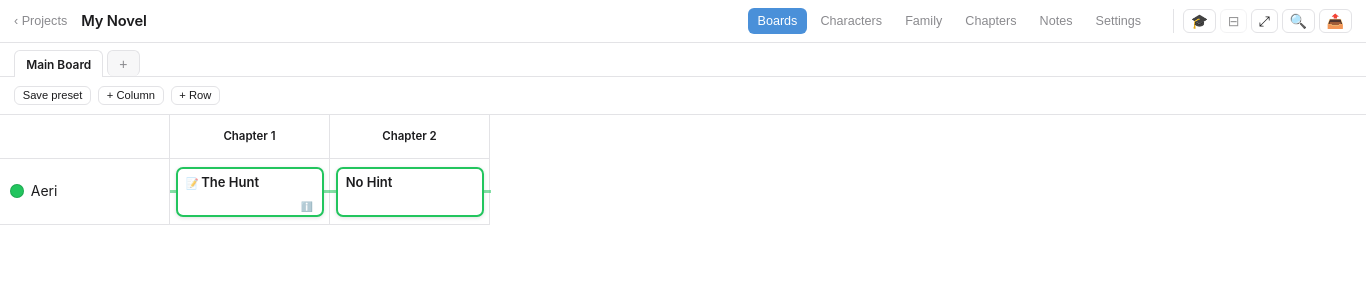
Test: hover tooltip on the board › shows the hover text after a short rest, line breaks kept, and hides it on leave
Check: the heading "My Novel" is shown, box left=81, top=12, right=147, bottom=30
Check: the text "The Hunt" is shown, box left=201, top=174, right=259, bottom=190
Hover over the text "The Hunt" at {"x": 250, "y": 192}, box left=176, top=166, right=324, bottom=216
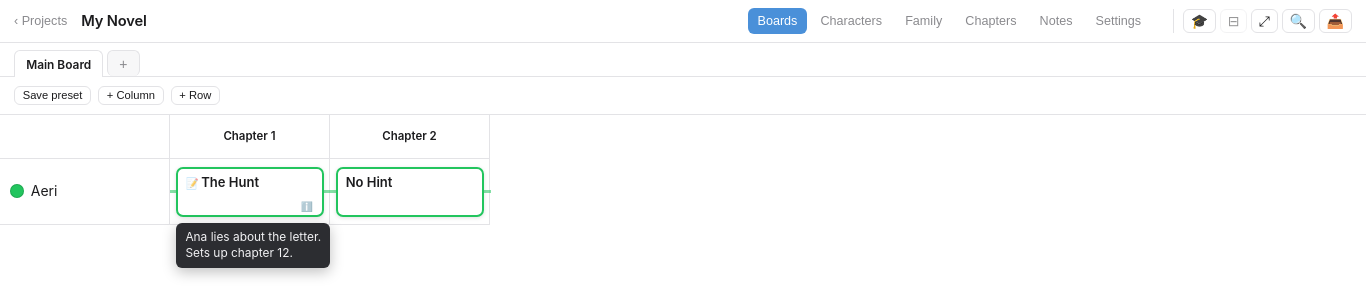
Move the pointer off the text "The Hunt", box left=176, top=166, right=324, bottom=216
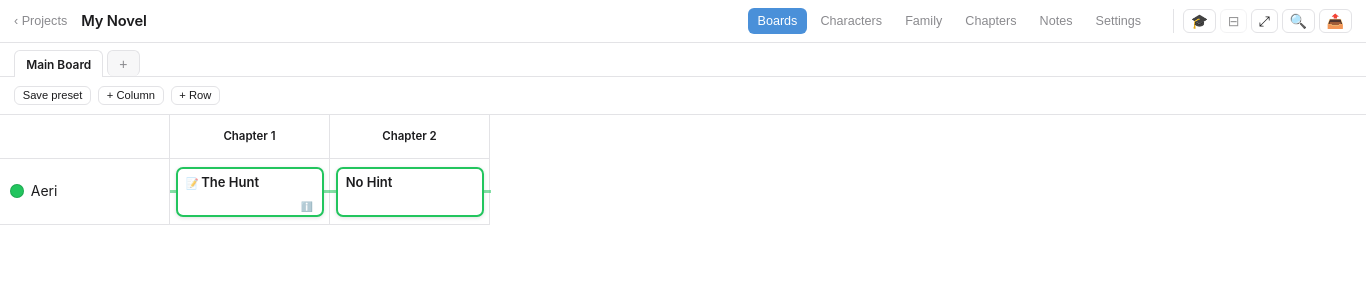
Check: the tooltip "Ana lies about the letter. Sets up chapter 12." is gone
